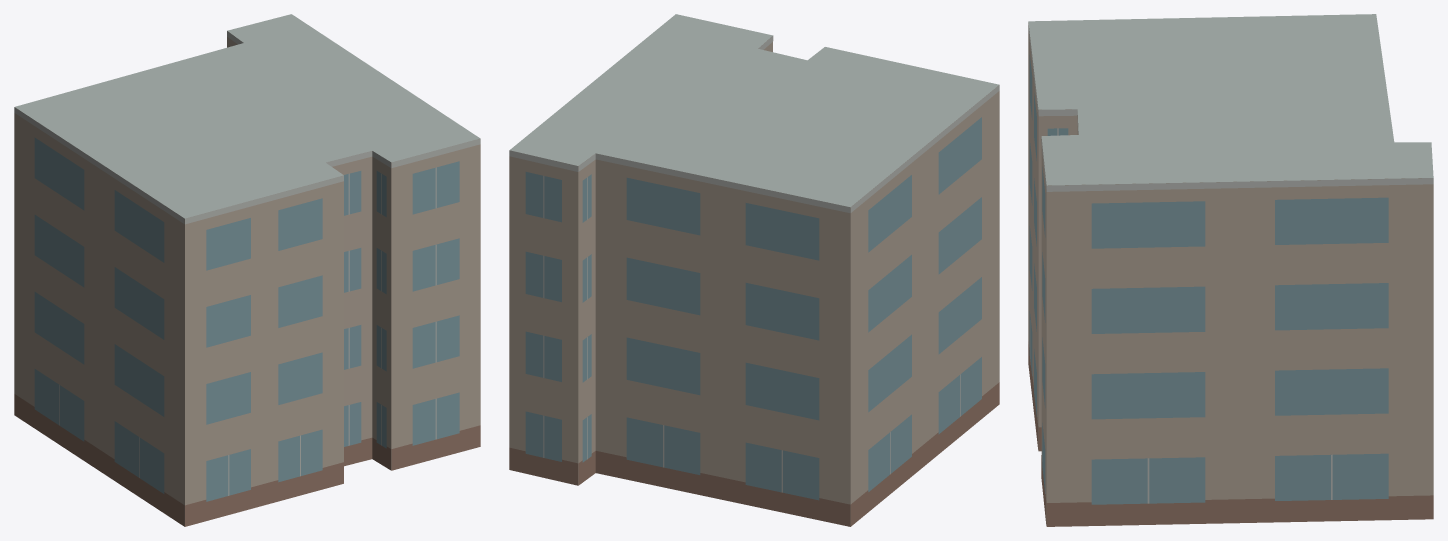
Rendered from survey-upis-32743844.glb.
3 views of the same model, side by side, from view 1: azimuth 30°, elevation 25°; view 2: azimuth 150°, elevation 25°; view 3: azimuth 270°, elevation 25° (orthographic). The views are drawn at different scales.
Parts seen in each view (by area): view 1: survey-upis-32743844.tmp; view 2: survey-upis-32743844.tmp; view 3: survey-upis-32743844.tmp.
Boxes of the visible parts, left/top/right/bottom form: survey-upis-32743844.tmp: left=14, top=14, right=480, bottom=526; survey-upis-32743844.tmp: left=509, top=14, right=999, bottom=526; survey-upis-32743844.tmp: left=1028, top=14, right=1433, bottom=526.
Bounding box in the file's own units: 13.91 × 12.9 × 13.89.
